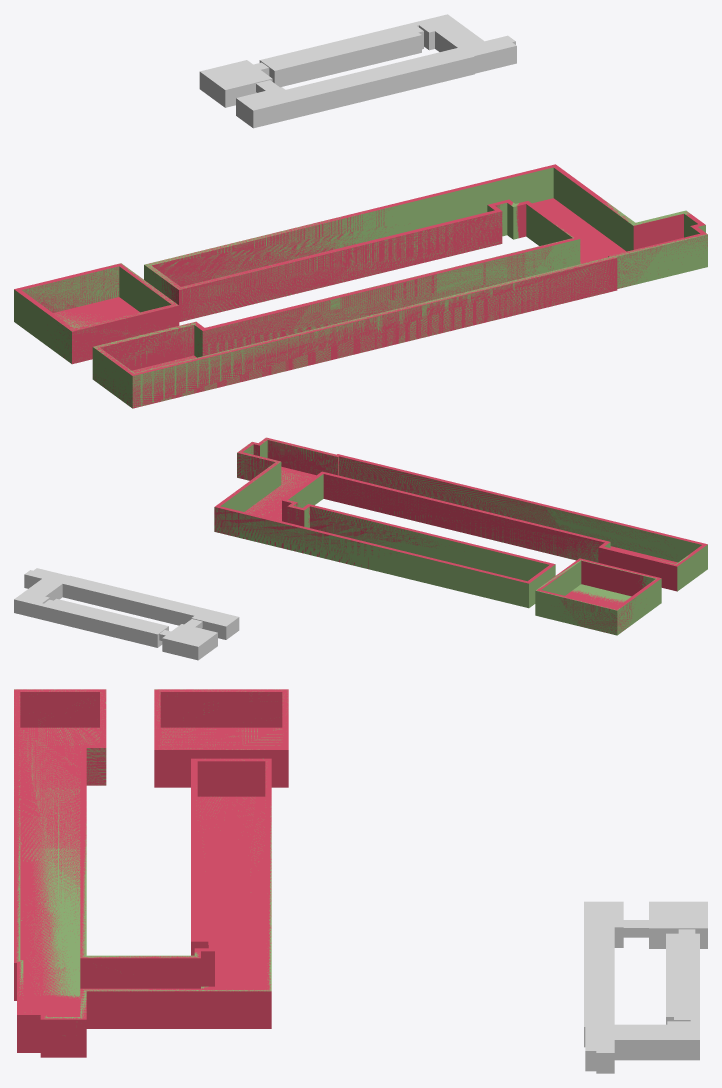
3 views of the same model, one above another, from view 1: azimuth 30°, elevation 25°; view 2: azimuth 150°, elevation 25°; view 3: azimuth 270°, elevation 25° (orthographic). The views are drawn at different scales.
Visible parts, largest first — view 1: F1, F2, Cube; view 2: F2, F1, Cube; view 3: F1, Cube, F2.
Boxes of the visible parts, <box> form: F1: <box>14,164,707,408</box>; F2: <box>14,167,707,408</box>; Cube: <box>199,14,516,128</box>; F2: <box>214,438,707,635</box>; F1: <box>214,437,707,632</box>; Cube: <box>14,568,239,660</box>; F1: <box>14,689,288,1057</box>; Cube: <box>584,901,707,1073</box>; F2: <box>14,689,287,1035</box>.
Size of the model in its own units: 11.24 by 0.5515 by 9.19.
